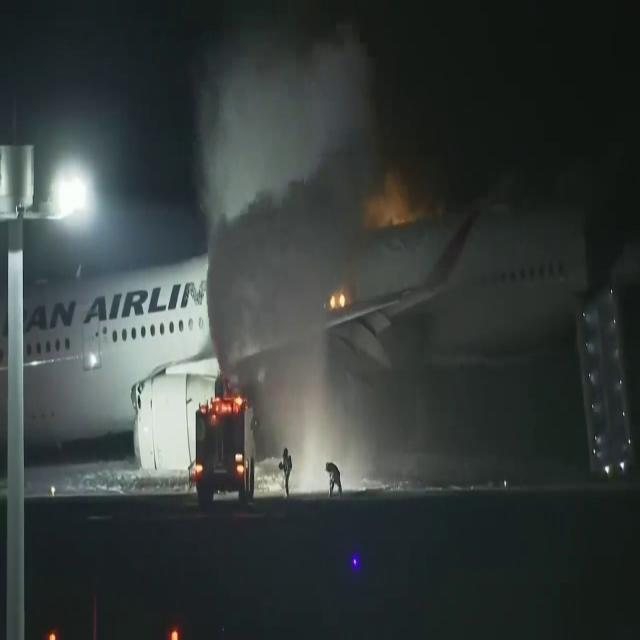Smoke: (194, 2, 412, 429)
